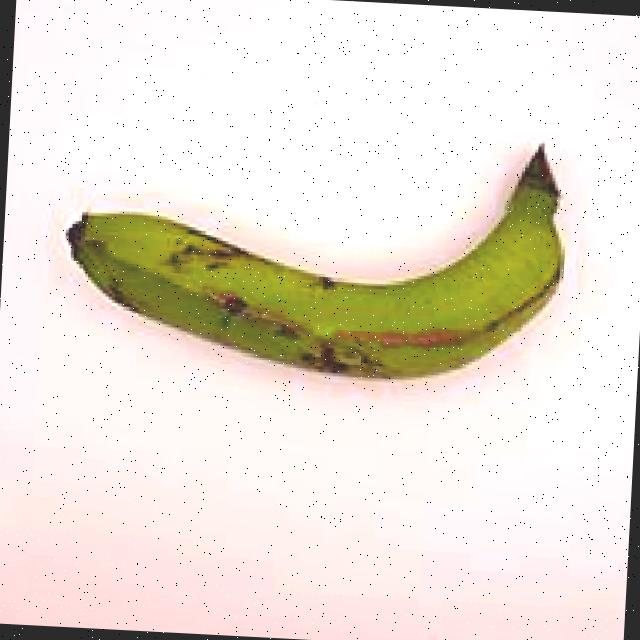Raw: (34, 102, 616, 420)
